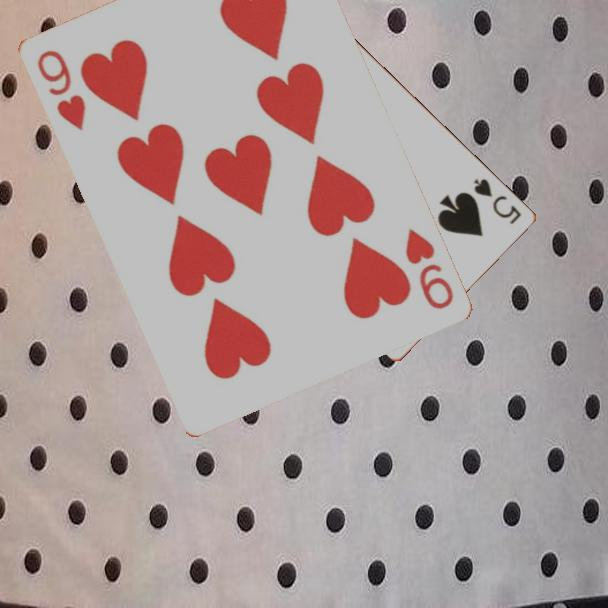h09: (32, 46, 89, 133), (401, 224, 456, 312)
s05: (470, 175, 525, 227)
